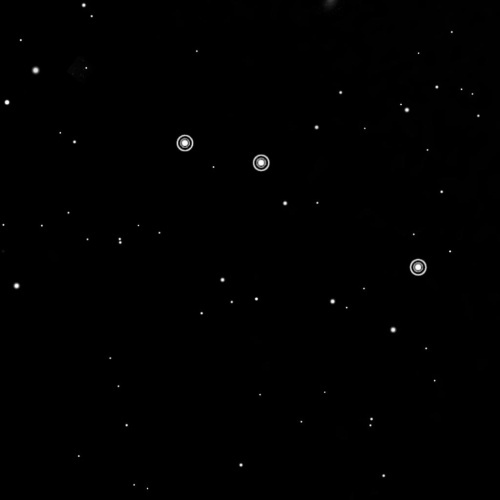vulpecula: (171, 127, 431, 281)
